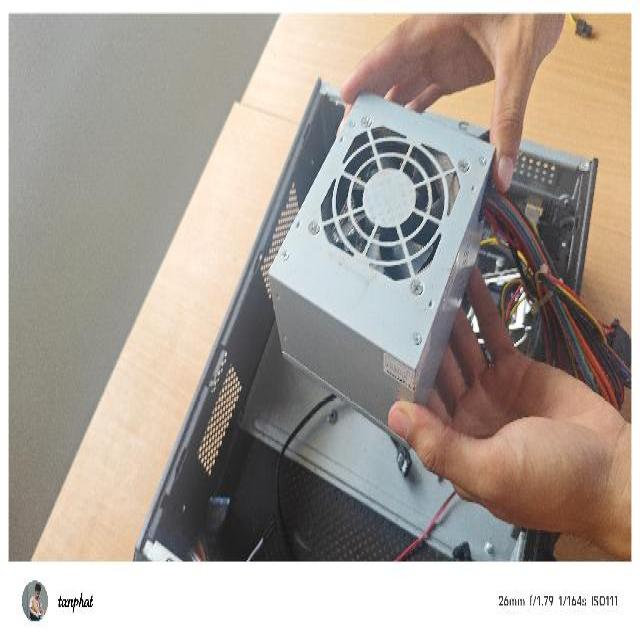PSU: (264, 84, 496, 452)
